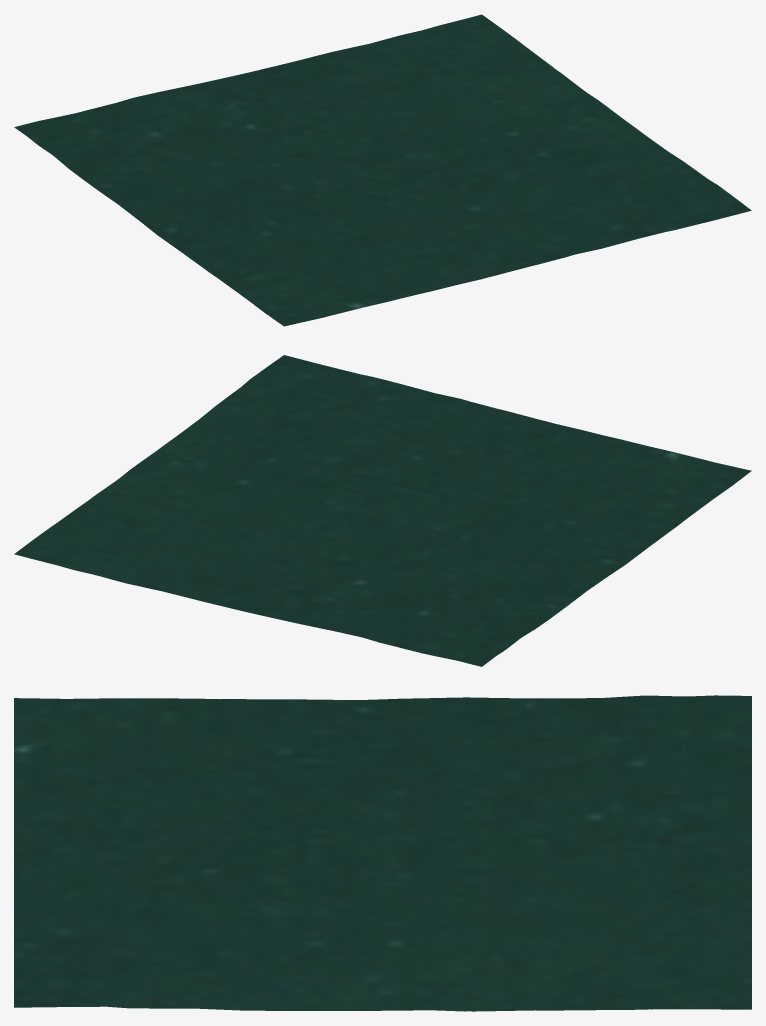
The picture shows the model from 3 angles, top to bottom: view 1: azimuth 30°, elevation 25°; view 2: azimuth 150°, elevation 25°; view 3: azimuth 270°, elevation 25°; orthographic projection. The views are drawn at different scales.
Bounding box in the file's own units: 52.22 × 0.4721 × 52.22.
Materials: 2 (2 with a texture image).
